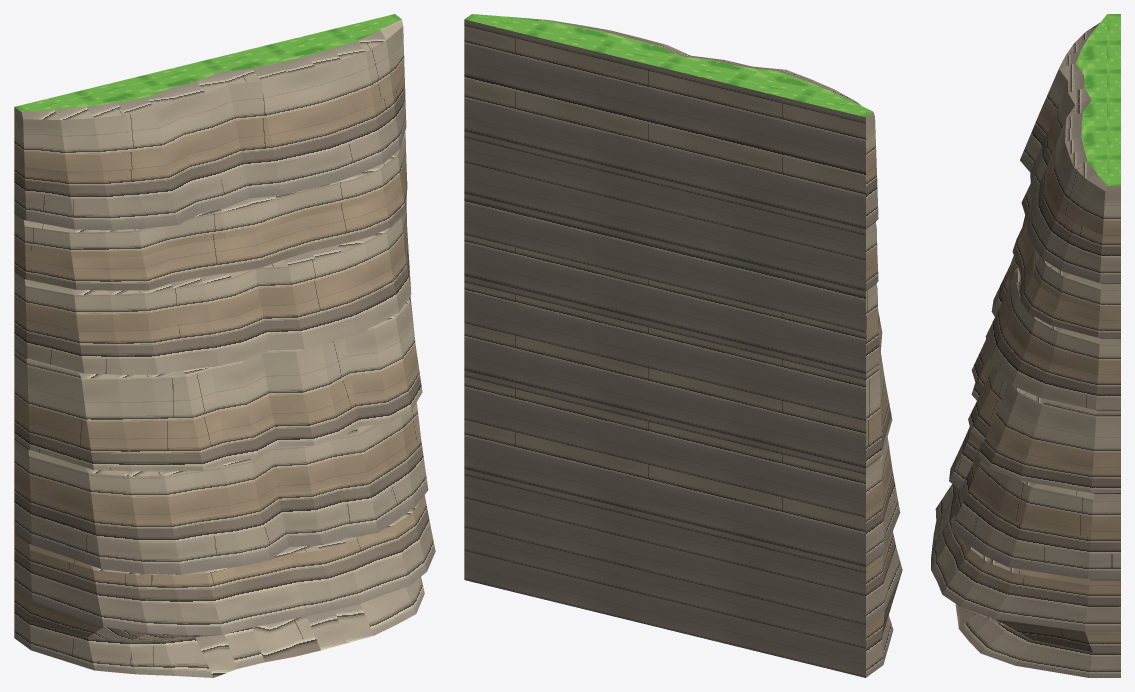
File: p_bi_cliff_a.glb
The picture shows the model from 3 angles, left to right: view 1: azimuth 30°, elevation 25°; view 2: azimuth 150°, elevation 25°; view 3: azimuth 270°, elevation 25°; orthographic projection. The views are drawn at different scales.
Parts seen in each view (by area): view 1: p_bi_cliff_a_lod0; view 2: p_bi_cliff_a_lod0; view 3: p_bi_cliff_a_lod0.
Boxes of the visible parts, bbox=[...] form: p_bi_cliff_a_lod0: bbox=[14, 14, 435, 677]; p_bi_cliff_a_lod0: bbox=[464, 14, 902, 677]; p_bi_cliff_a_lod0: bbox=[931, 14, 1120, 677].
Size of what is drawn, in the model's own units: 12 by 16.01 by 5.6.
Materials: 1 (1 with a texture image).
